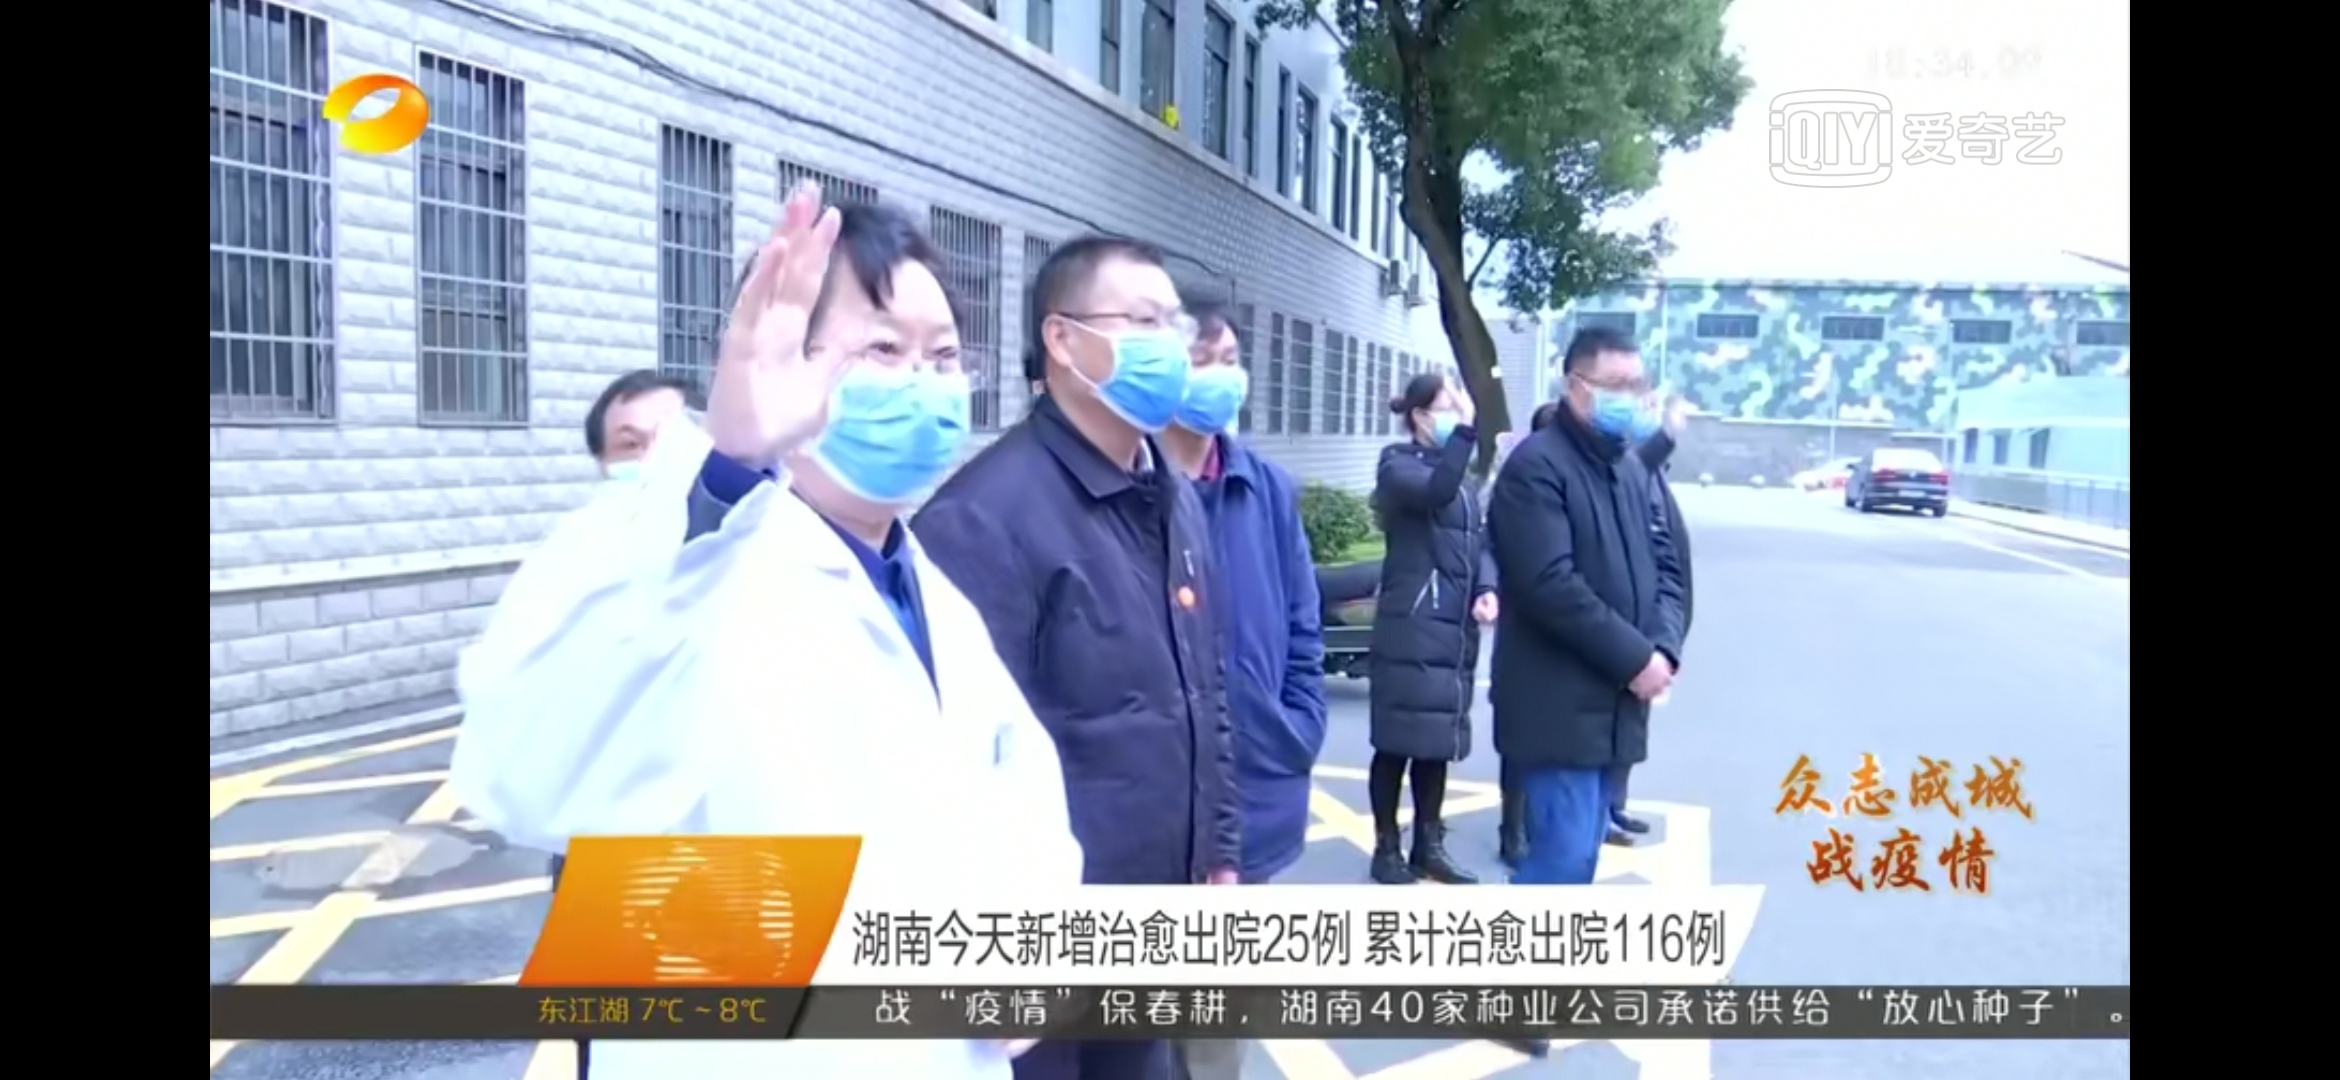correctlyWear: (798, 298, 973, 518), (1042, 282, 1189, 445), (1185, 324, 1254, 446), (1571, 361, 1648, 439), (1412, 388, 1474, 448)
